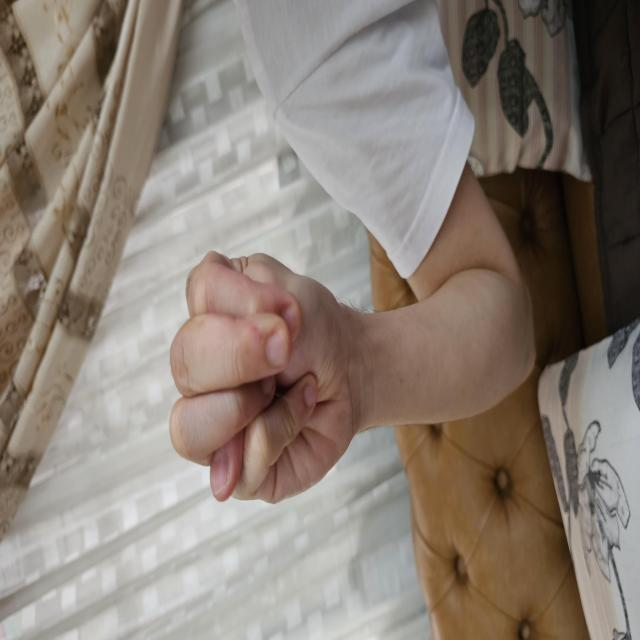M: (131, 222, 384, 544)
